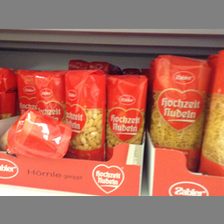pasta: (149, 55, 211, 172), (64, 70, 107, 161), (1, 107, 73, 161), (107, 72, 148, 164)
